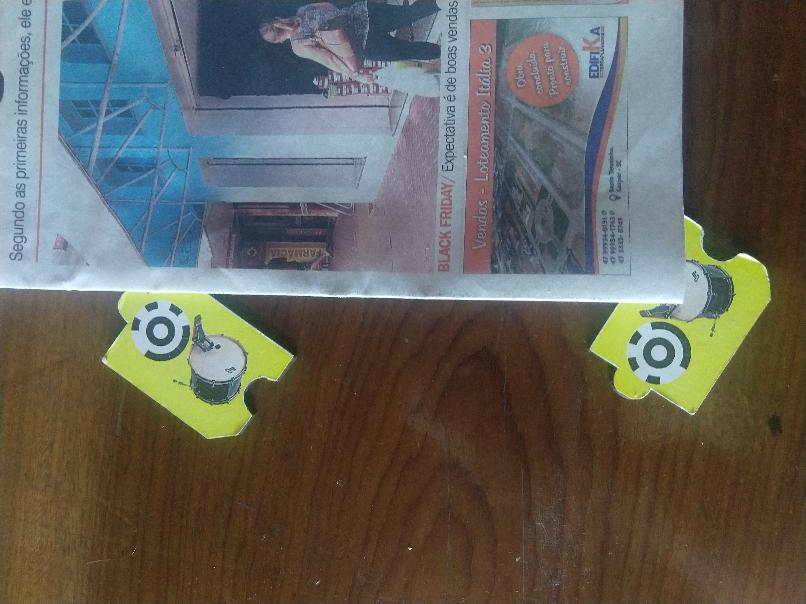bumbo: (590, 211, 771, 420), (104, 293, 298, 440)
